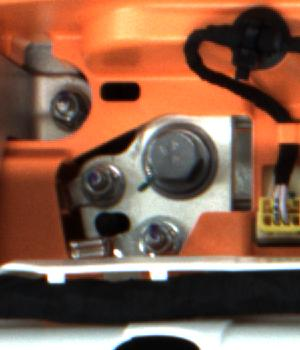nut_b: (141, 122, 210, 196)
screw_s: (46, 88, 90, 134), (83, 159, 127, 198), (141, 221, 185, 256)
